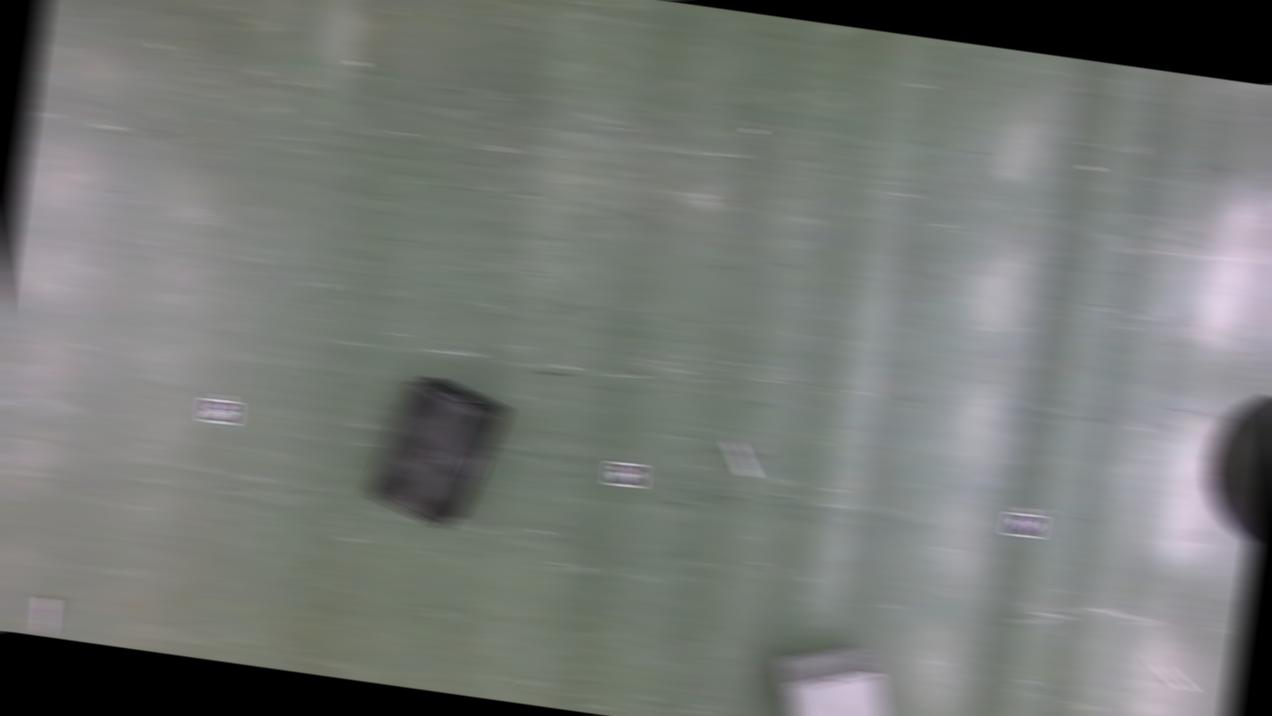probes: (1146, 658, 1196, 691), (724, 438, 758, 476), (35, 596, 57, 634)
rako: (362, 366, 512, 533), (764, 633, 907, 716)
